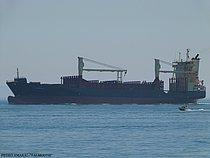Ship: (5, 49, 210, 108)
